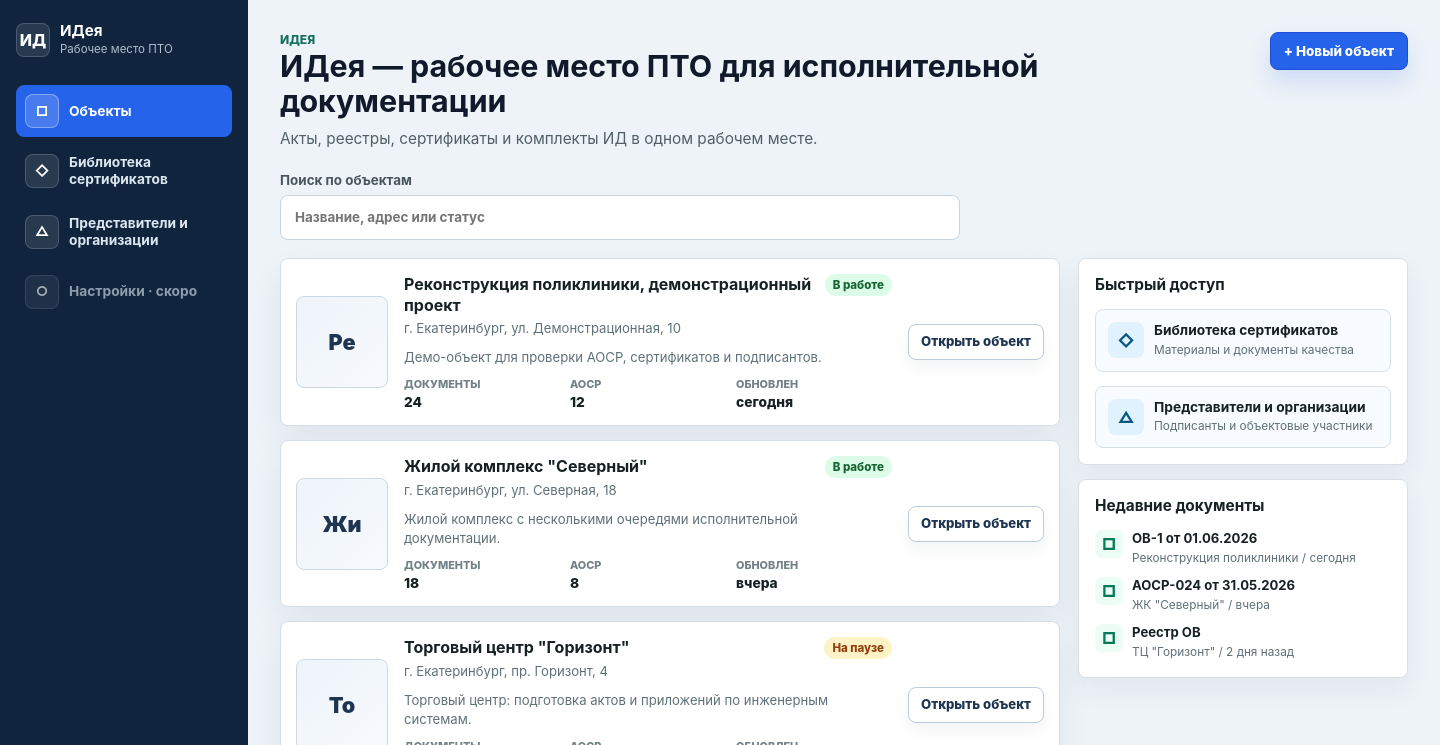
Test: App shell mock navigation › creates an AOSR draft with an empty manual number without blocking the editor
Click the 1st link "Открыть объект" at (976, 342), box [908,324,1044,360]
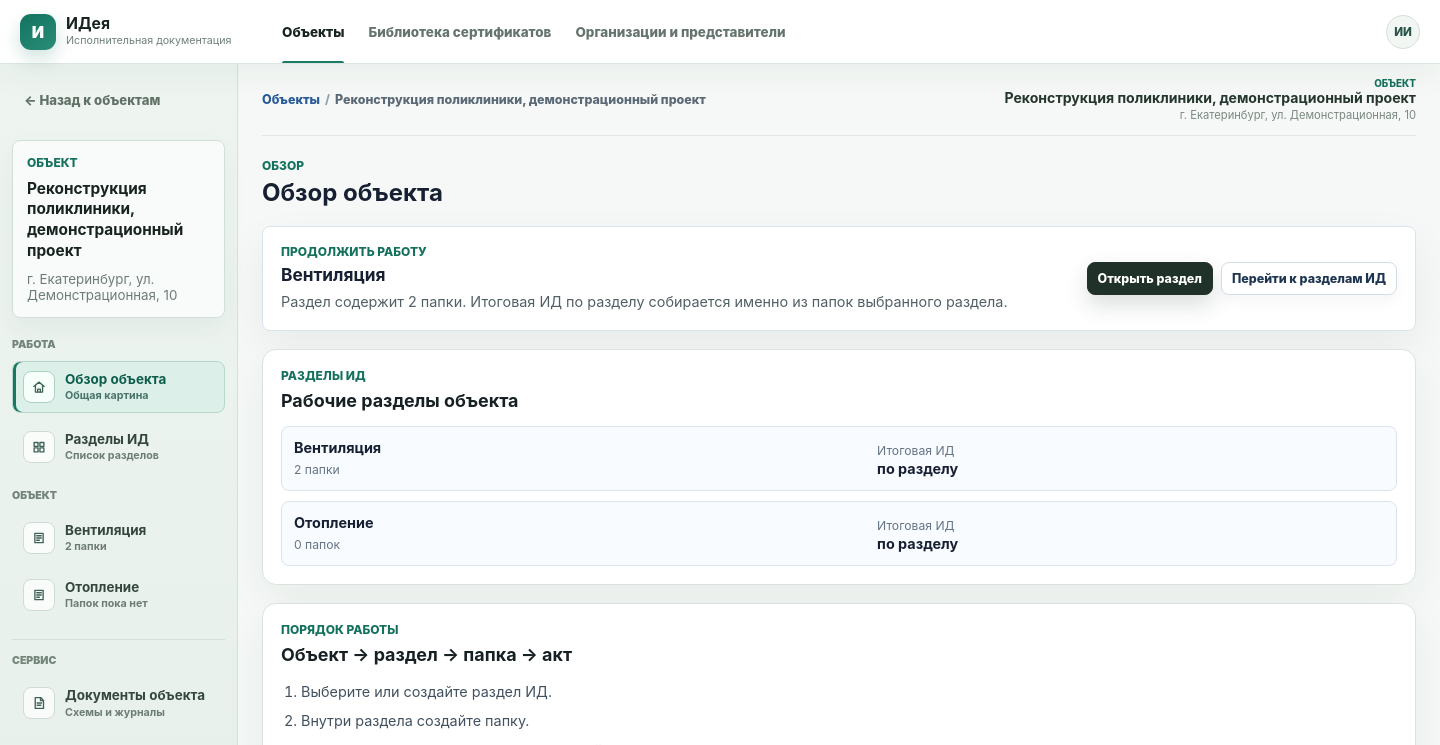
Click the link with aria-label "Открыть раздел Вентиляция" at (85, 538), box [23,522,146,554]
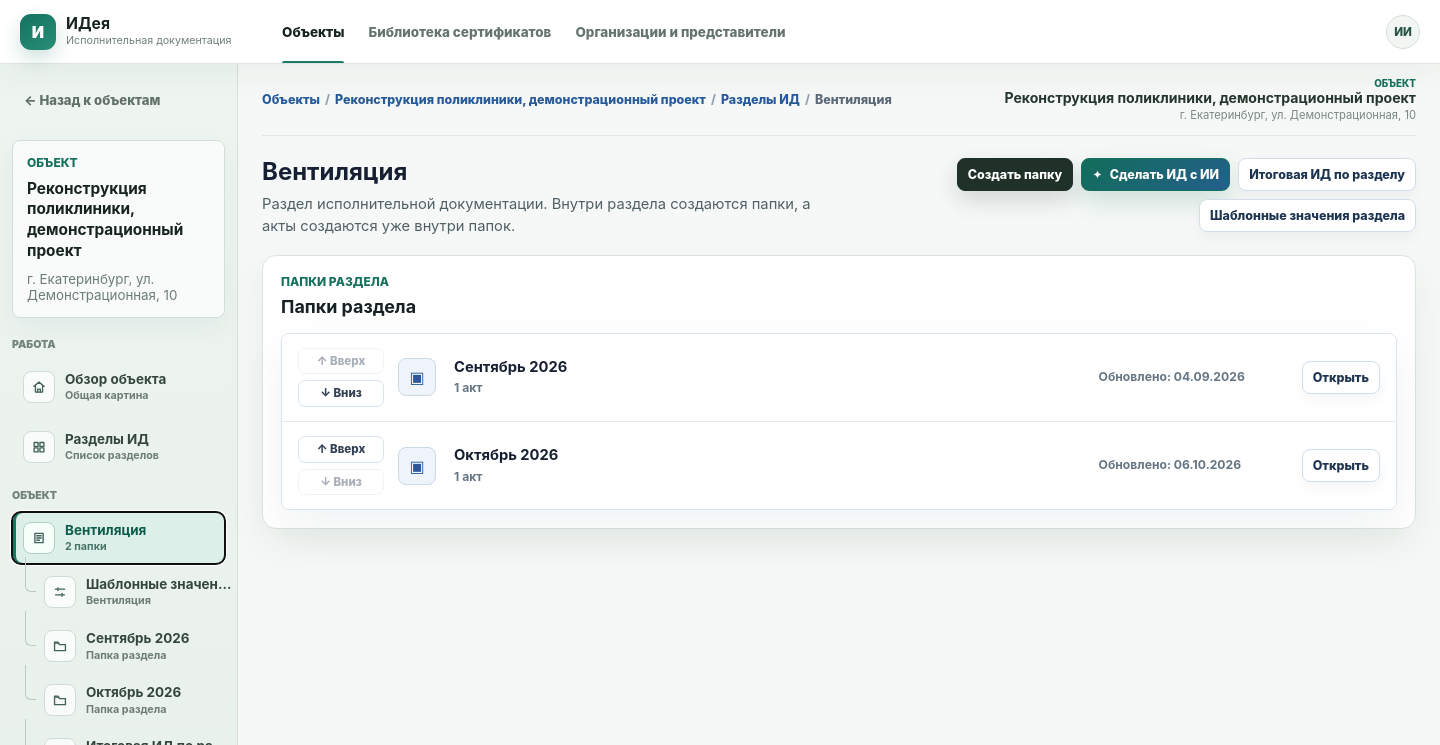
Click the link with aria-label "Открыть папку Сентябрь 2026" at (117, 646), box [44,630,189,662]
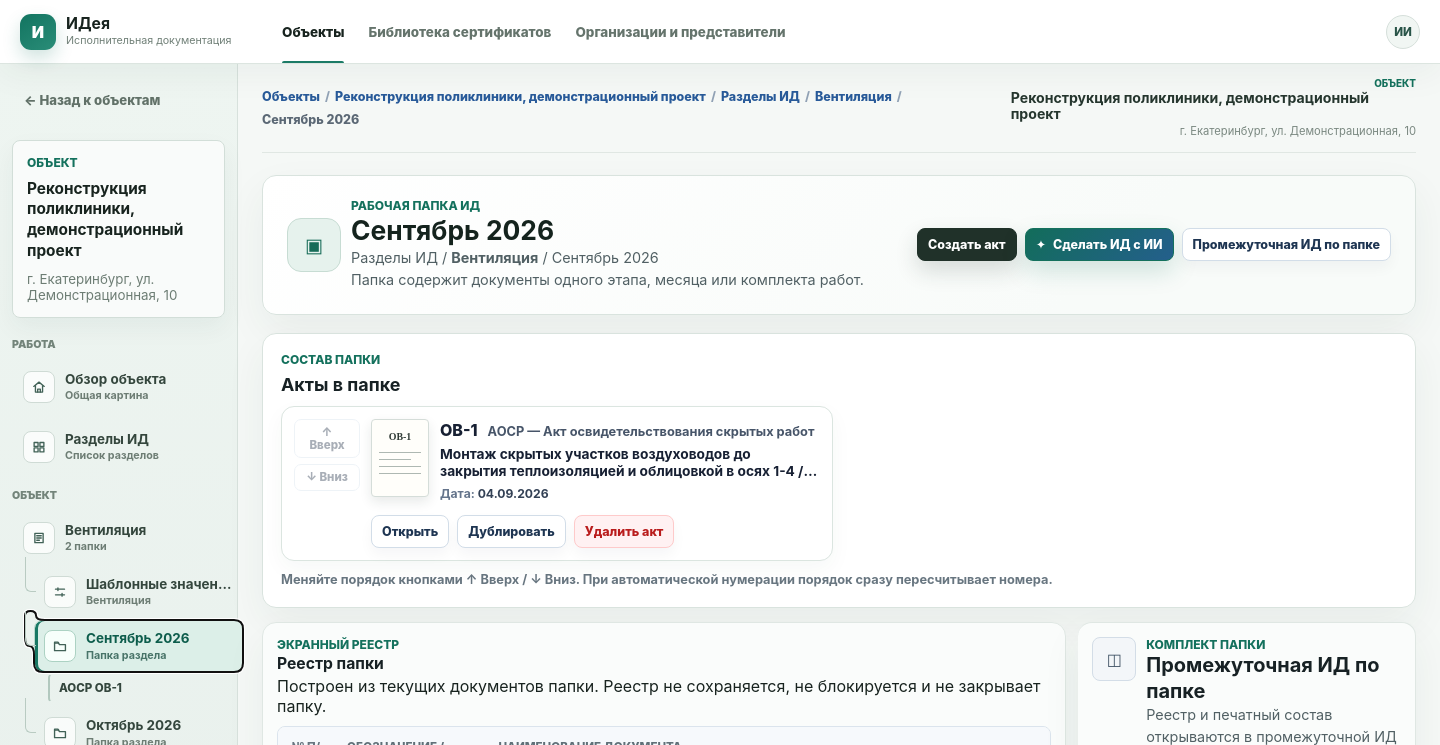
Result: the heading "Сентябрь 2026" is shown at [351,214,554,246]
Click the button "Создать акт" at (967, 245), box [917,228,1017,261]
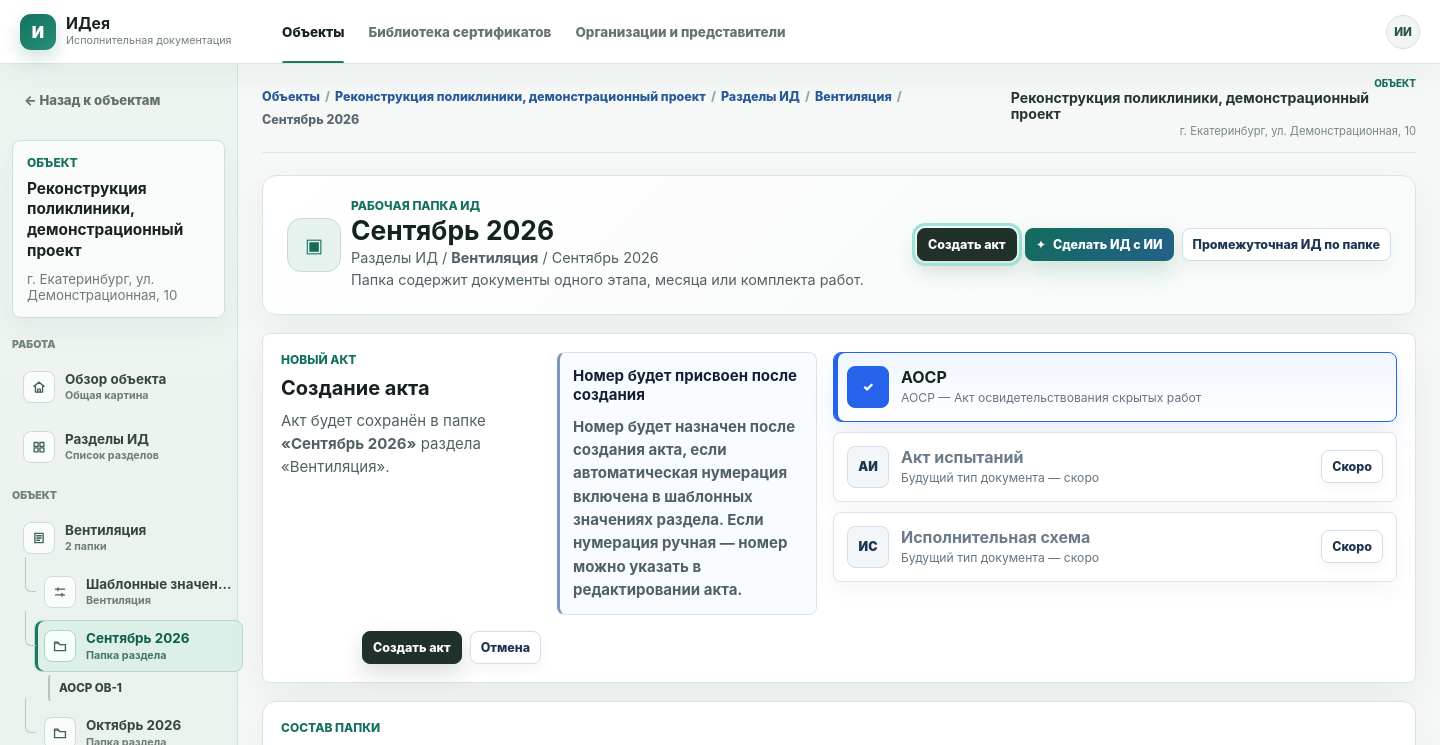
Click the button "Создать акт" below "раздела «Вентиляция»." at (412, 648), box [362,631,462,664]
(page scrolled)
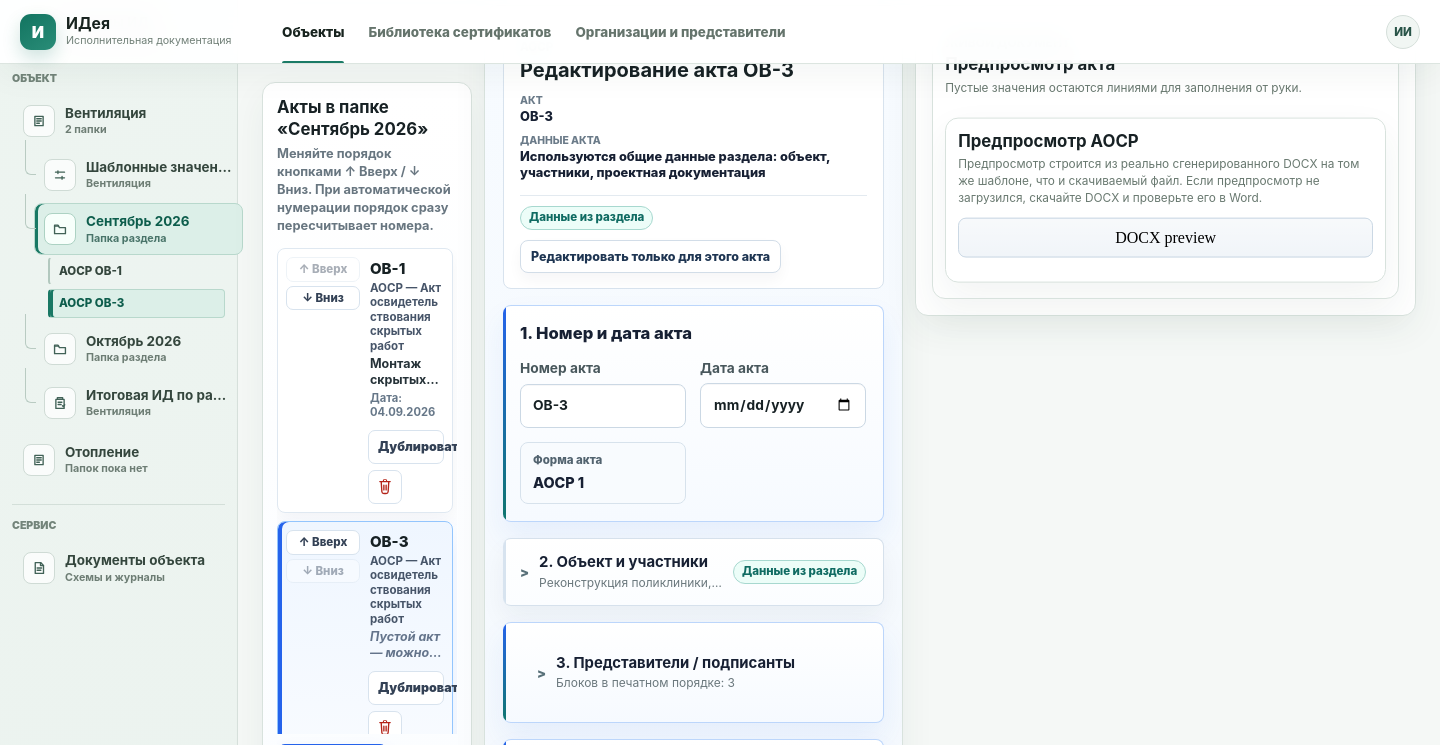
Result: the field labelled "Номер акта" holds "ОВ-3"
Clear the field labelled "Номер акта" at (603, 406), box [520,384,686,428]
(page scrolled)
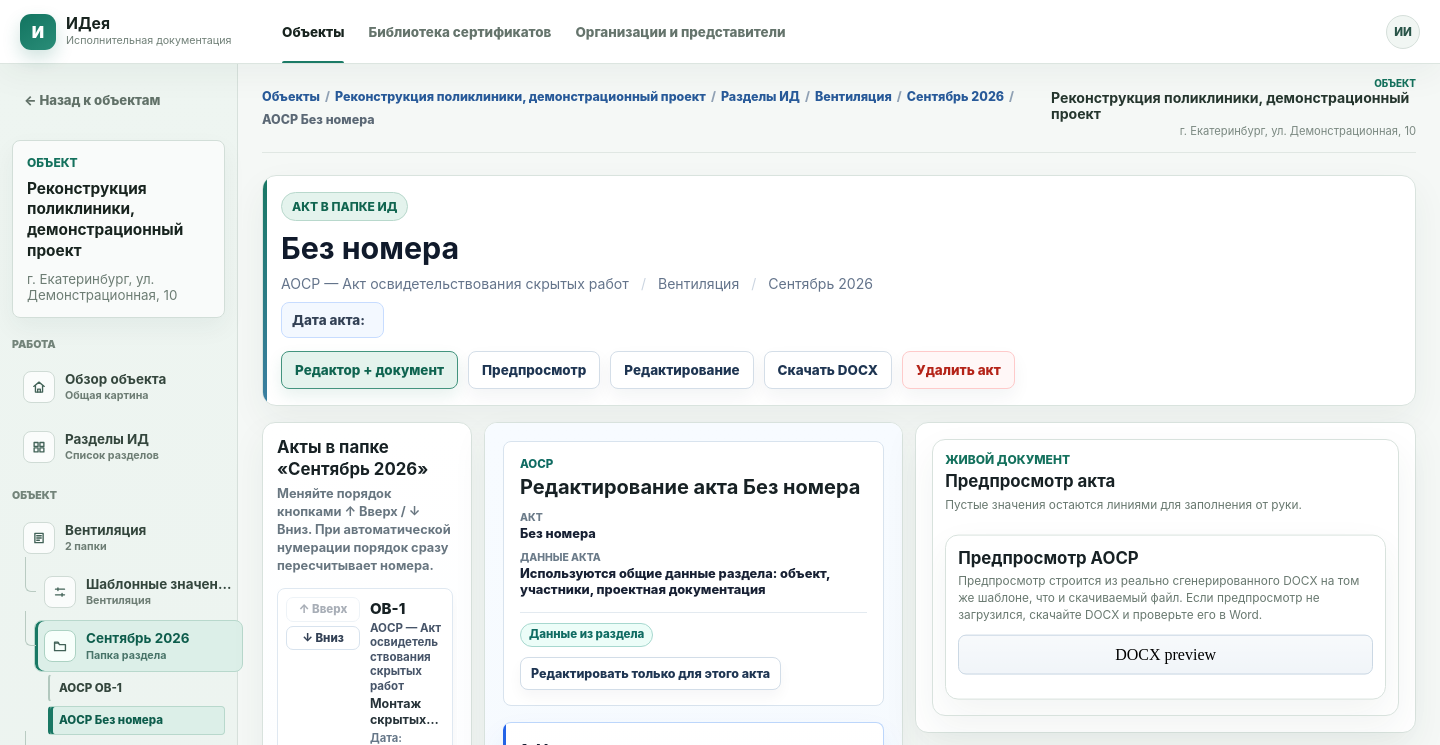
Result: the button "Предпросмотр" is shown at [468,351,600,389]
Result: the element named "Текущий акт: Без номера" is shown at [281,302,384,338]
